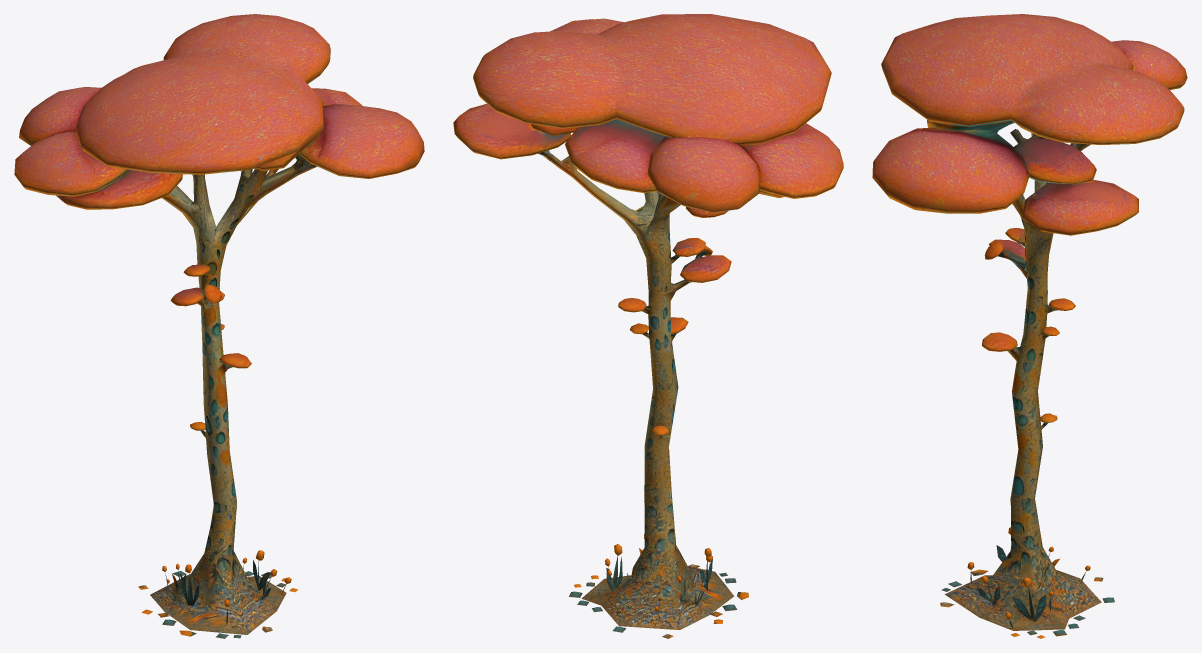
The model's file is alien_tree_02.glb.
3 views of the same model, side by side, from view 1: azimuth 30°, elevation 25°; view 2: azimuth 150°, elevation 25°; view 3: azimuth 270°, elevation 25° (orthographic). The views are drawn at different scales.
Parts seen in each view (by area): view 1: tripo_node_3c3a44b5-1264-4310-9fbe-292c77628ccf; view 2: tripo_node_3c3a44b5-1264-4310-9fbe-292c77628ccf; view 3: tripo_node_3c3a44b5-1264-4310-9fbe-292c77628ccf.
Boxes of the visible parts, x1=… form: tripo_node_3c3a44b5-1264-4310-9fbe-292c77628ccf: x1=14, y1=14, x2=424, y2=638; tripo_node_3c3a44b5-1264-4310-9fbe-292c77628ccf: x1=453, y1=14, x2=843, y2=638; tripo_node_3c3a44b5-1264-4310-9fbe-292c77628ccf: x1=872, y1=14, x2=1187, y2=638.
Bounding box in the file's own units: 0.6733 × 0.9995 × 0.5122.
Materials: 1 (1 with a texture image).
